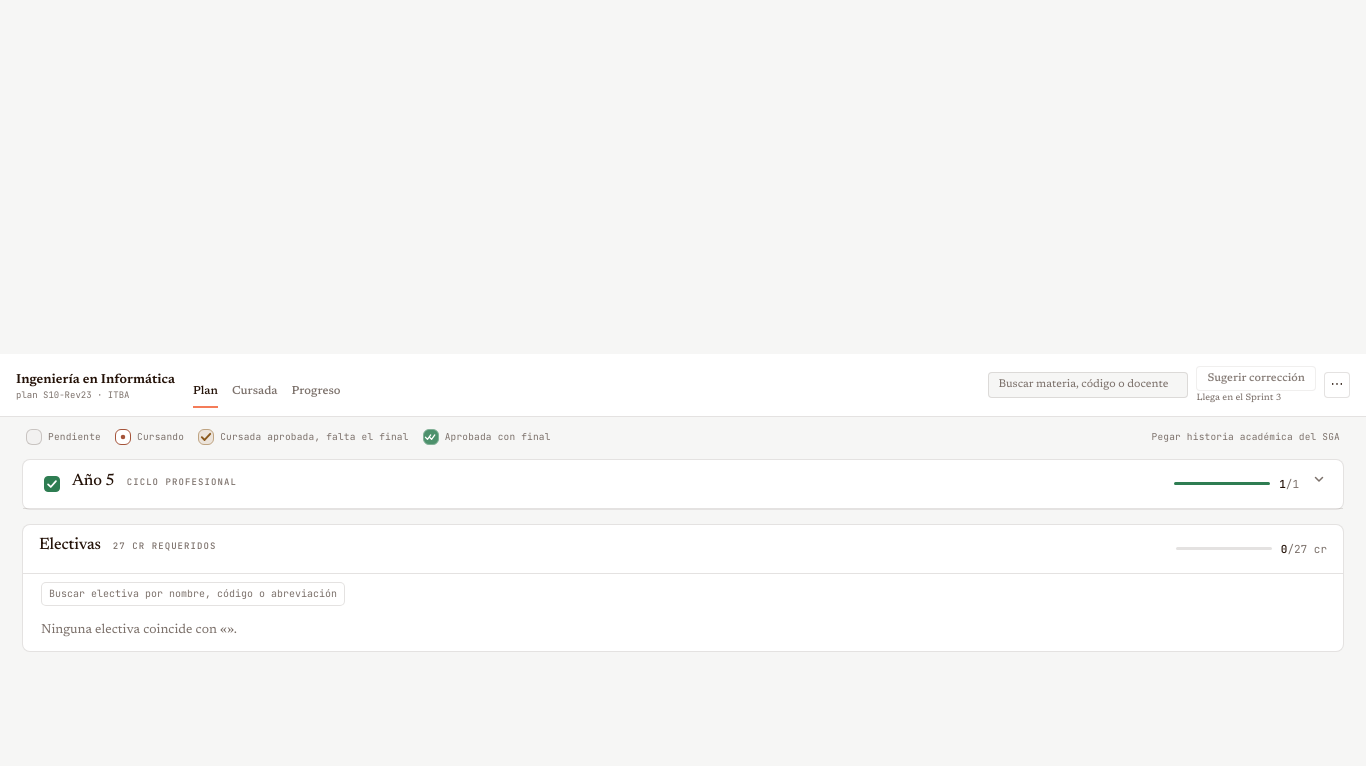
App › lo que se escribe en la barra superior llega al panel de agregar
(page scrolled)
In the search field named "Buscar materia, código o docente": (1088, 385) [988,372,1188,398], type "cripto"
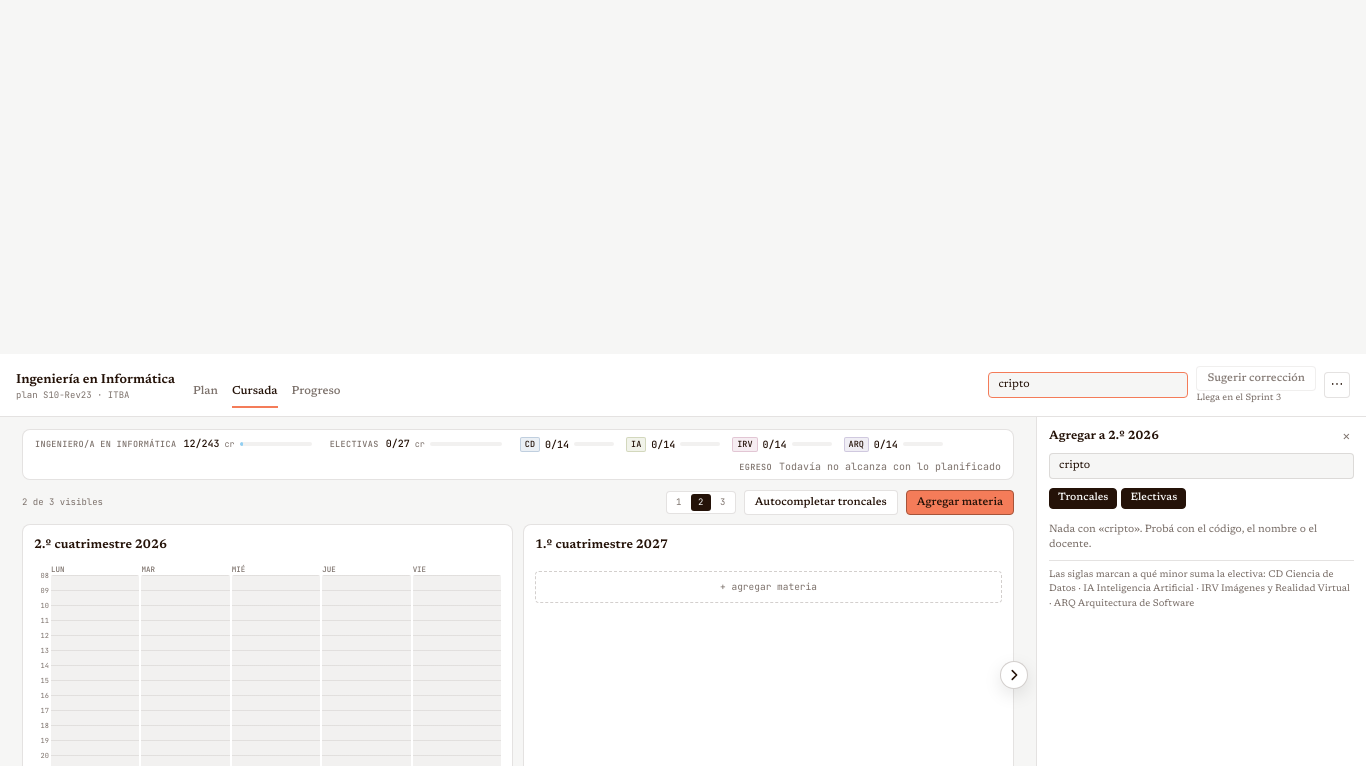
Expected: the search field named "Buscar materia" holds "cripto", [1049,453,1354,479]
